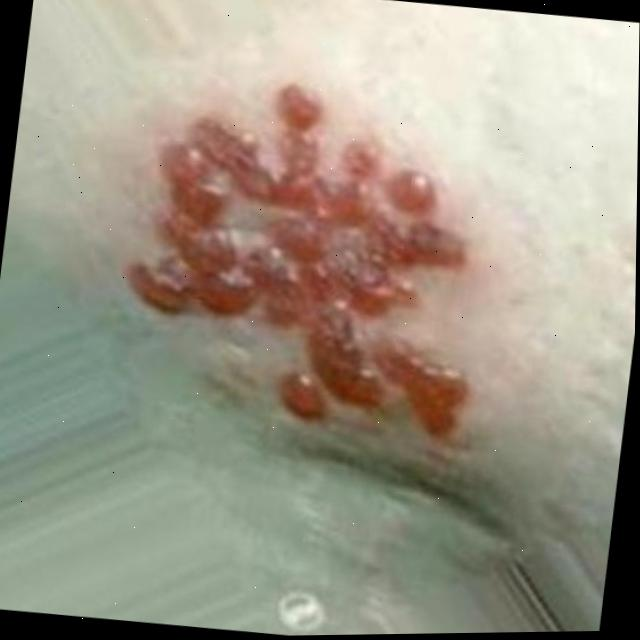Shingles: (106, 64, 507, 450)
